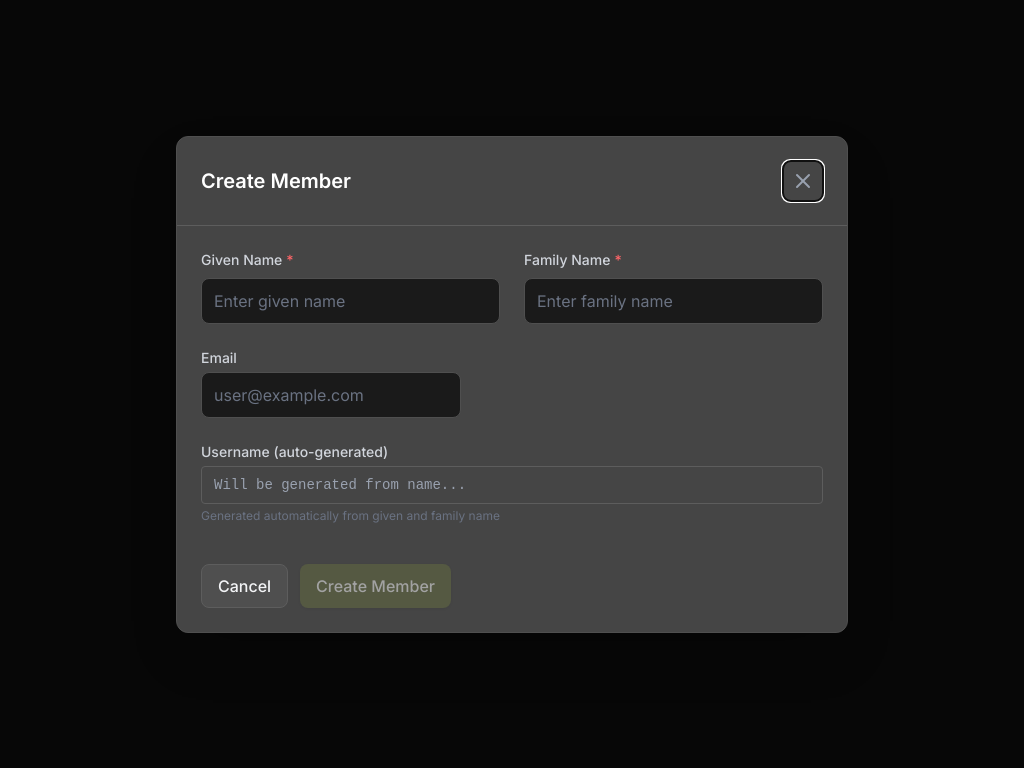
CreateUserModal › derives a username from the given and family name
Expected: the text "Will be generated from name..." is shown, [201, 466, 823, 504]
Type "Ada" into the field labelled "Given Name*".
click(350, 300); type("Ada")  # box [201, 278, 500, 324]
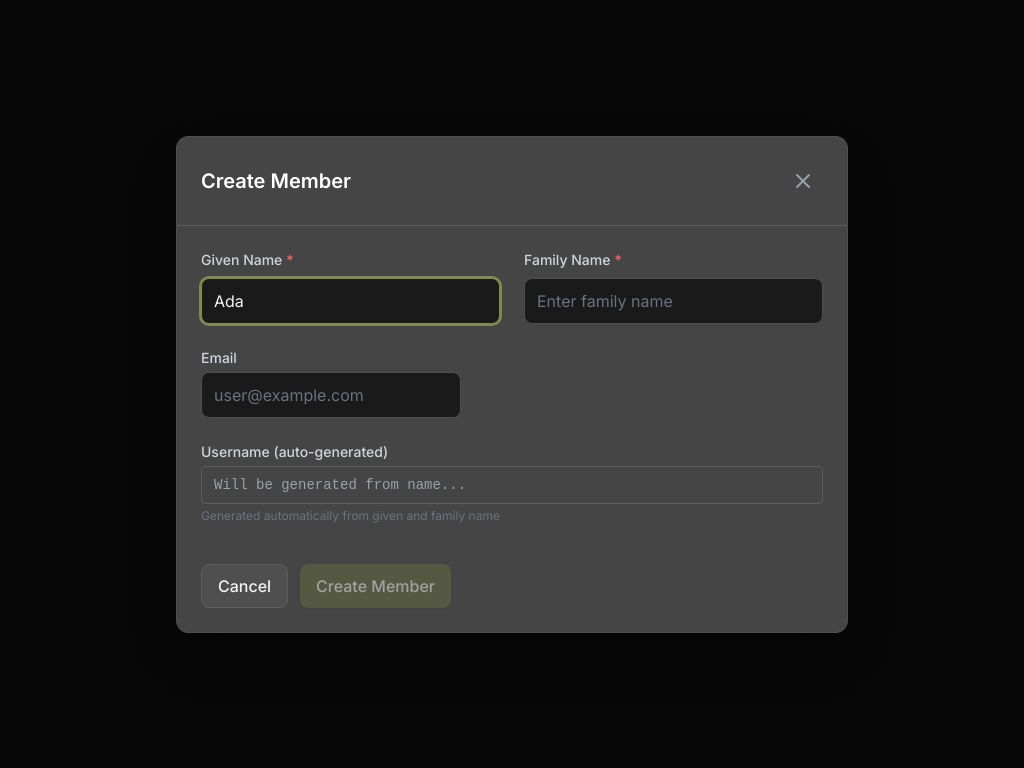
Type "Demo" into the field labelled "Family Name*".
click(674, 300); type("Demo")  # box [524, 278, 823, 324]
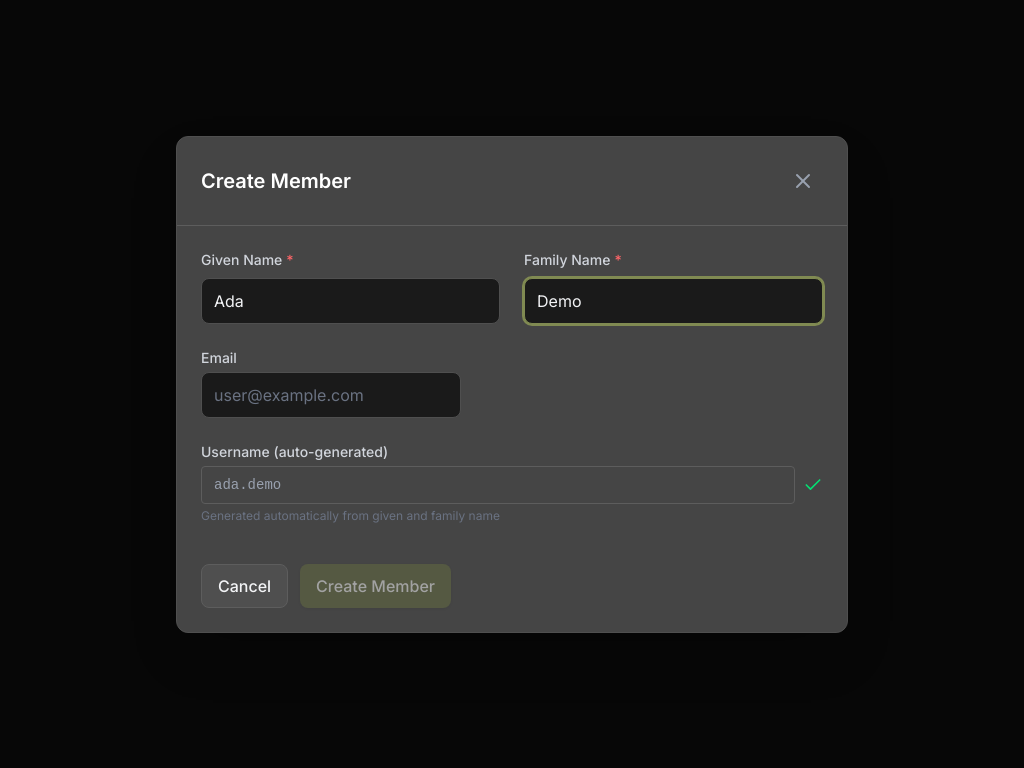
Expected: the text "Will be generated from name" is gone
